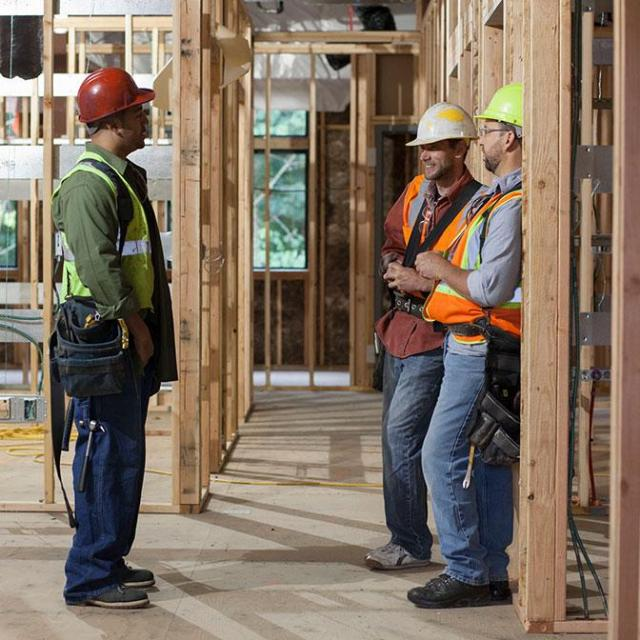Reflective-Jacket: (373, 173, 521, 358), (44, 151, 168, 339)
Safety-Helmet: (68, 61, 161, 129), (400, 96, 481, 154), (471, 76, 524, 140)
